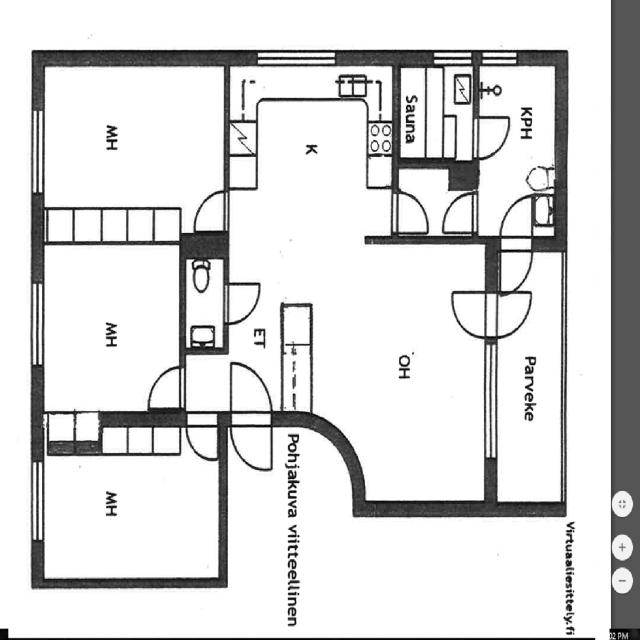door: (230, 418, 275, 472), (489, 289, 534, 339), (229, 358, 270, 411), (145, 362, 186, 411), (450, 290, 490, 340), (221, 280, 263, 326), (440, 189, 479, 235), (472, 113, 511, 159), (392, 187, 430, 234), (191, 187, 230, 232), (184, 419, 220, 462), (498, 196, 533, 240)
window: (480, 342, 503, 468), (25, 101, 49, 199), (26, 276, 48, 370), (256, 47, 335, 69), (28, 457, 47, 546), (479, 48, 522, 68), (434, 46, 476, 66)
zone: (228, 58, 390, 424), (36, 62, 226, 238), (36, 428, 222, 584), (36, 233, 185, 422), (475, 58, 560, 236), (398, 60, 474, 162), (183, 242, 227, 352)
